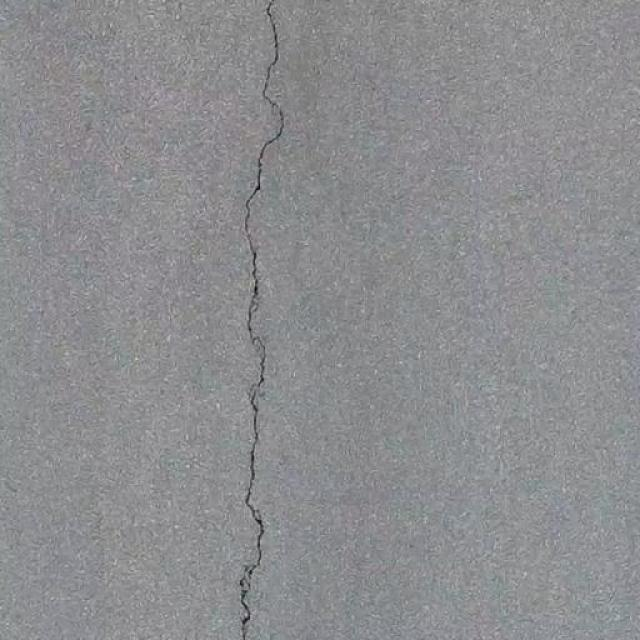Crack: (224, 0, 286, 640)
